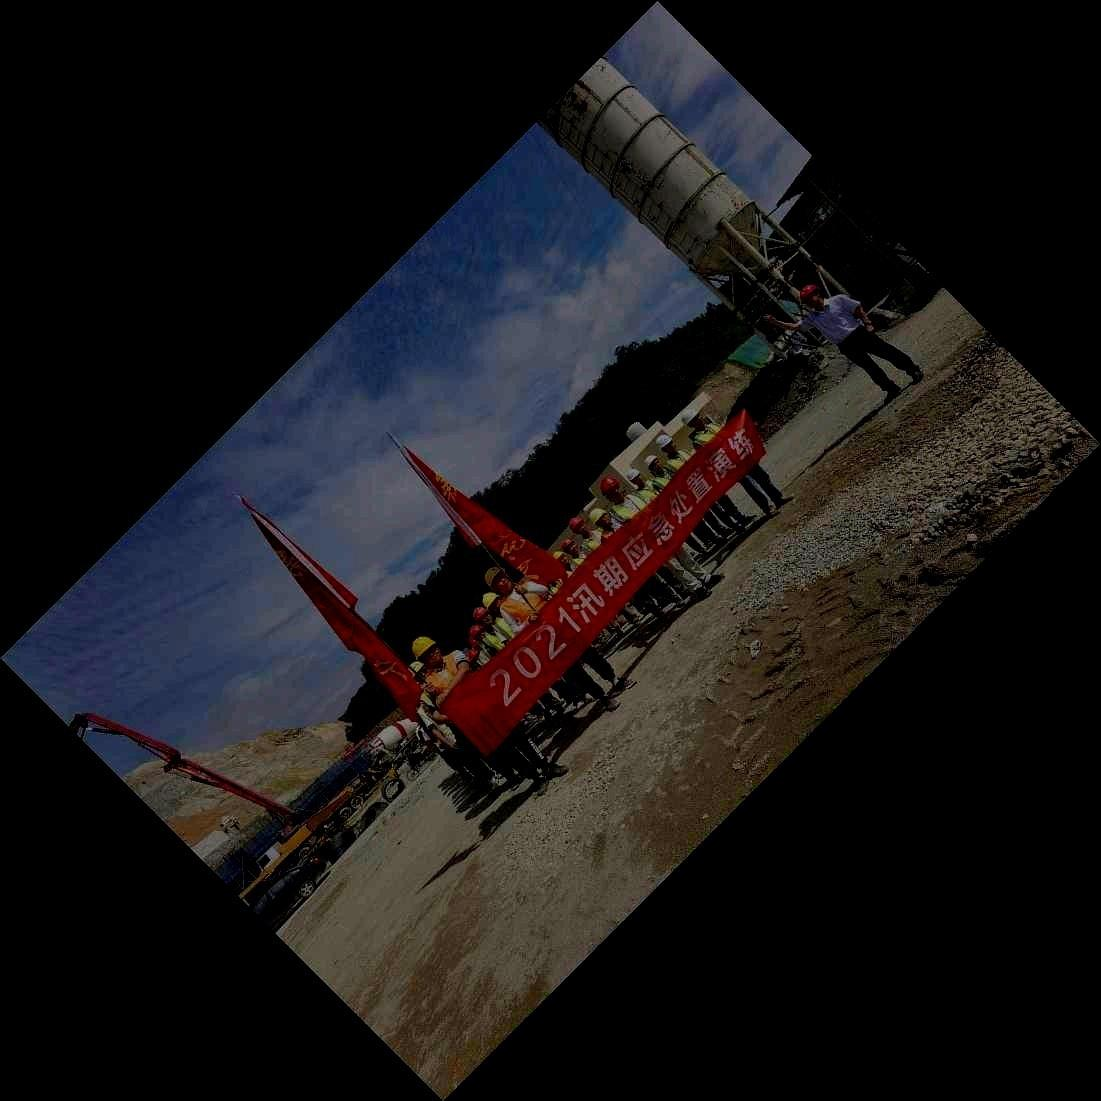helmet: (412, 636, 442, 666), (484, 567, 514, 591), (600, 477, 623, 504), (800, 284, 822, 309), (681, 409, 704, 429), (482, 592, 502, 611), (590, 508, 610, 527), (656, 435, 677, 454), (409, 661, 429, 681), (473, 607, 493, 625), (569, 517, 587, 534), (645, 455, 663, 471), (627, 469, 644, 485), (469, 625, 486, 639), (561, 539, 577, 554), (553, 550, 568, 564), (467, 650, 481, 663), (468, 636, 481, 650)
